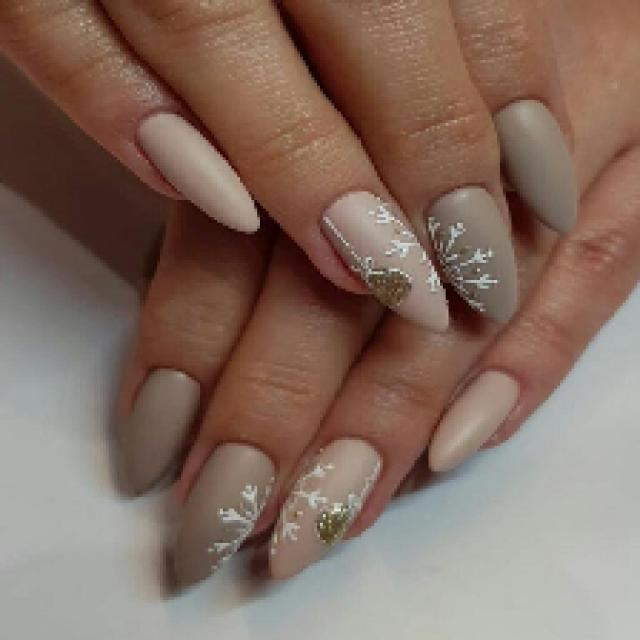Nail: (321, 191, 449, 331), (270, 439, 381, 578), (139, 112, 260, 233), (174, 442, 276, 584), (426, 186, 518, 322), (494, 100, 578, 231), (429, 371, 519, 471), (128, 369, 201, 492)
